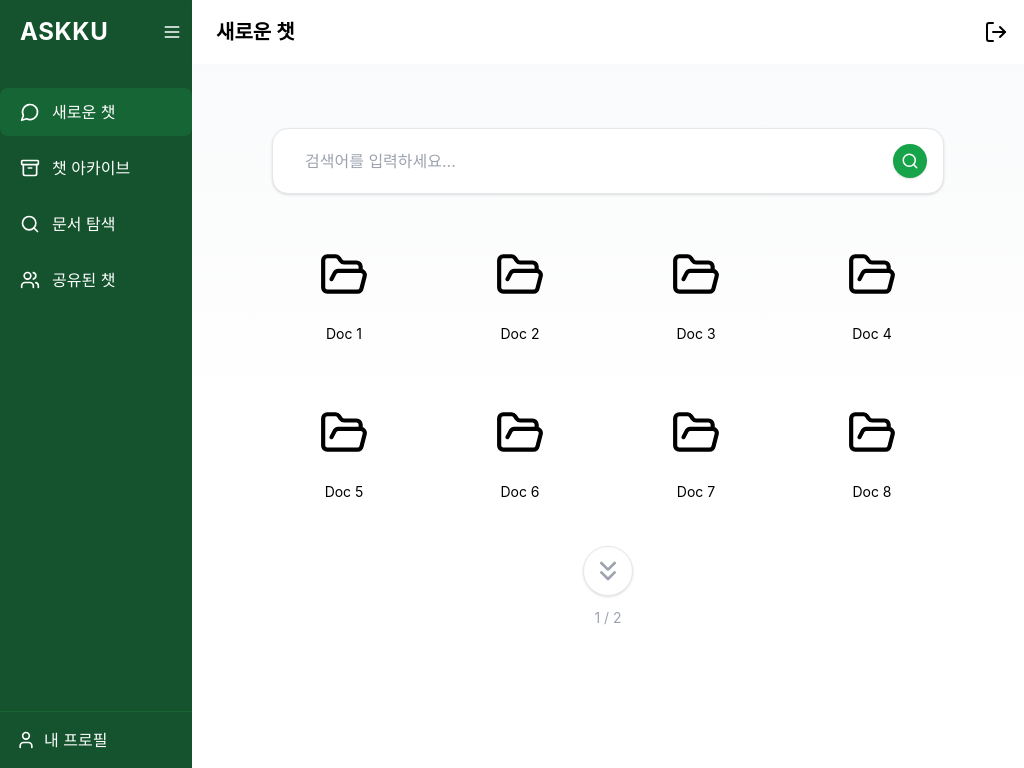
Test: DocumentPage › goes to next page on pagination button click
Expected: the text "Doc 1" is shown, [326,324,362,344]
Step 1. Click the button named "다음 문서 보기" → point(608, 571), box [583,546,633,596]
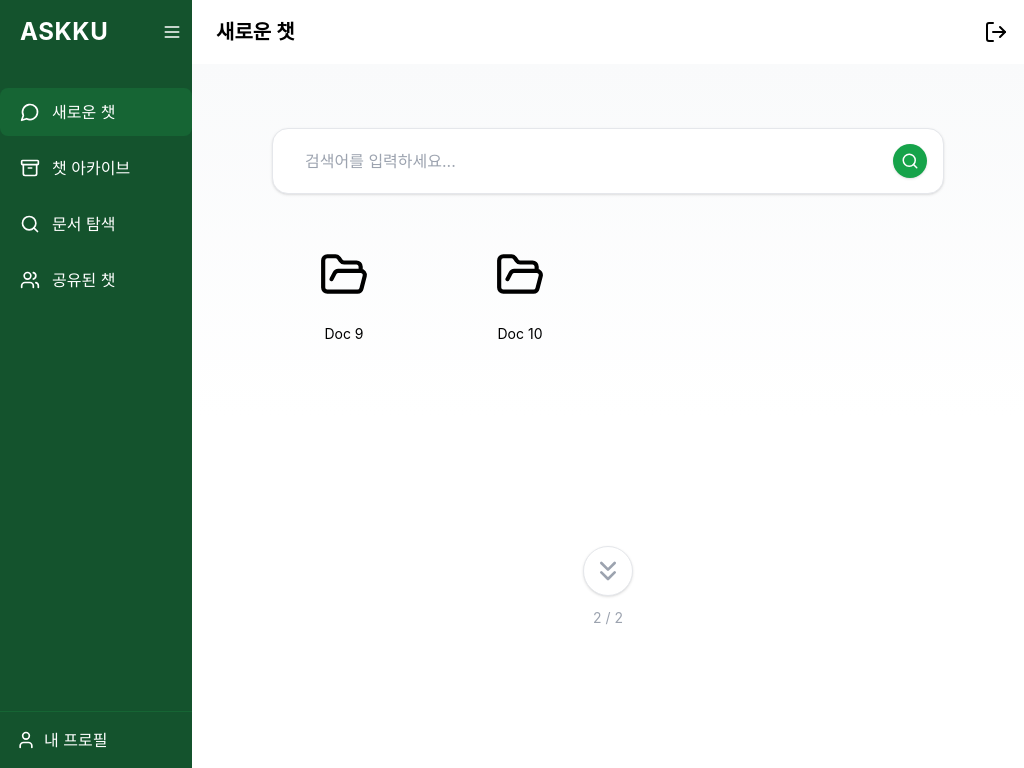
Expected: the text "Doc 9" is shown, [324,324,364,344]
Expected: the text "Doc 10" is shown, [498,324,542,344]
